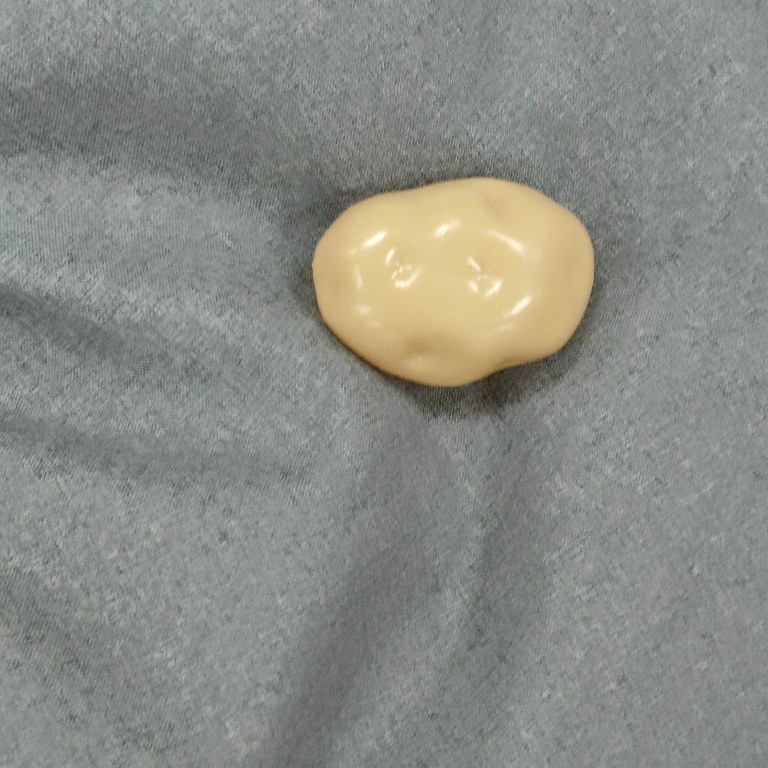fruit_potato: (304, 170, 600, 392)
